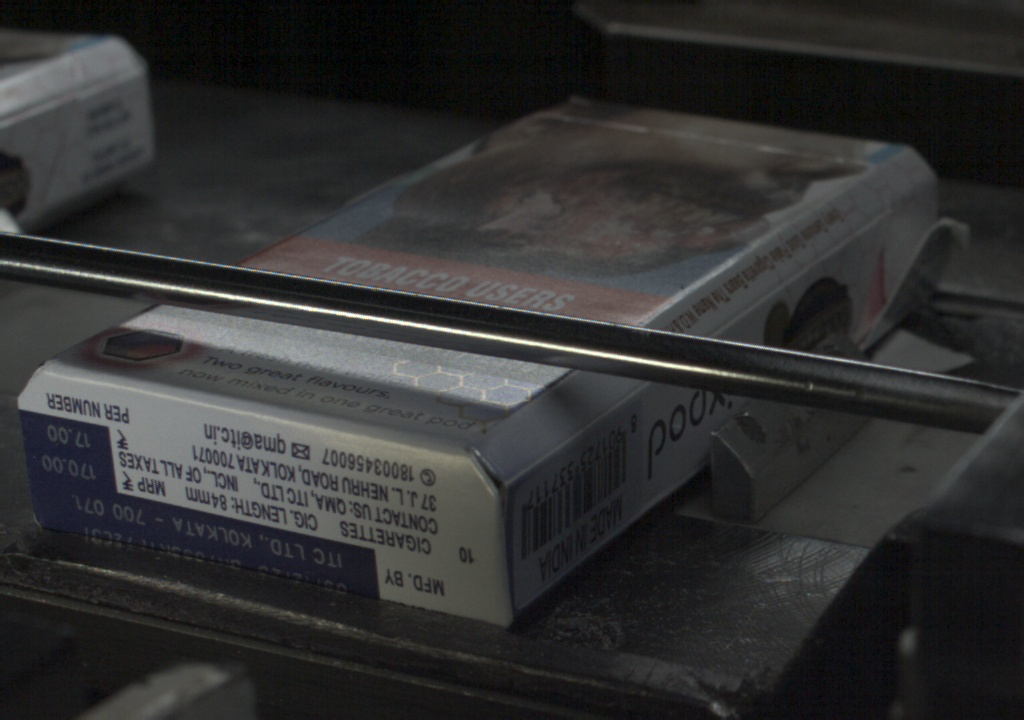g_bottom: (17, 366, 512, 625)
g_label: (25, 488, 377, 596)
g_lmiter: (708, 272, 802, 333), (802, 209, 884, 272), (504, 432, 574, 483), (574, 384, 642, 431)
ng_miter: (894, 190, 970, 265)
price: (24, 420, 115, 487)
